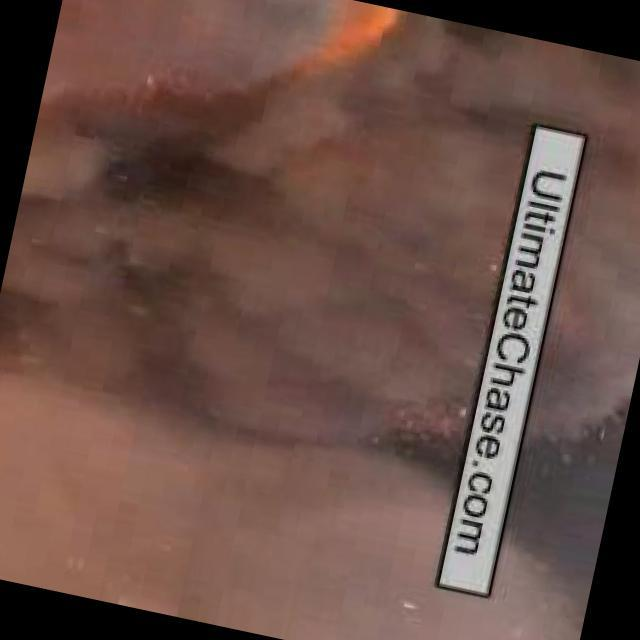Fire: (250, 1, 419, 147), (614, 123, 640, 297)
